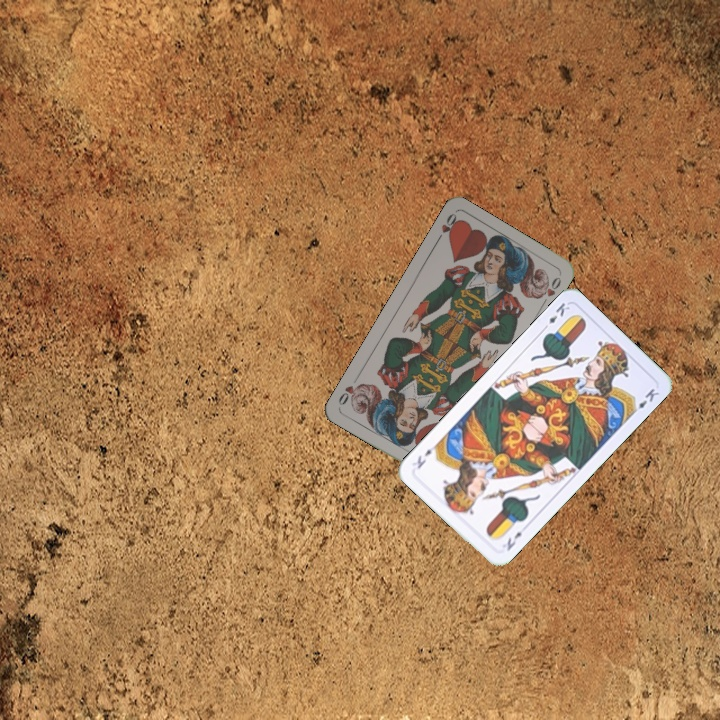EK: (538, 299, 572, 333), (503, 527, 525, 553)
HO: (432, 209, 462, 246)
